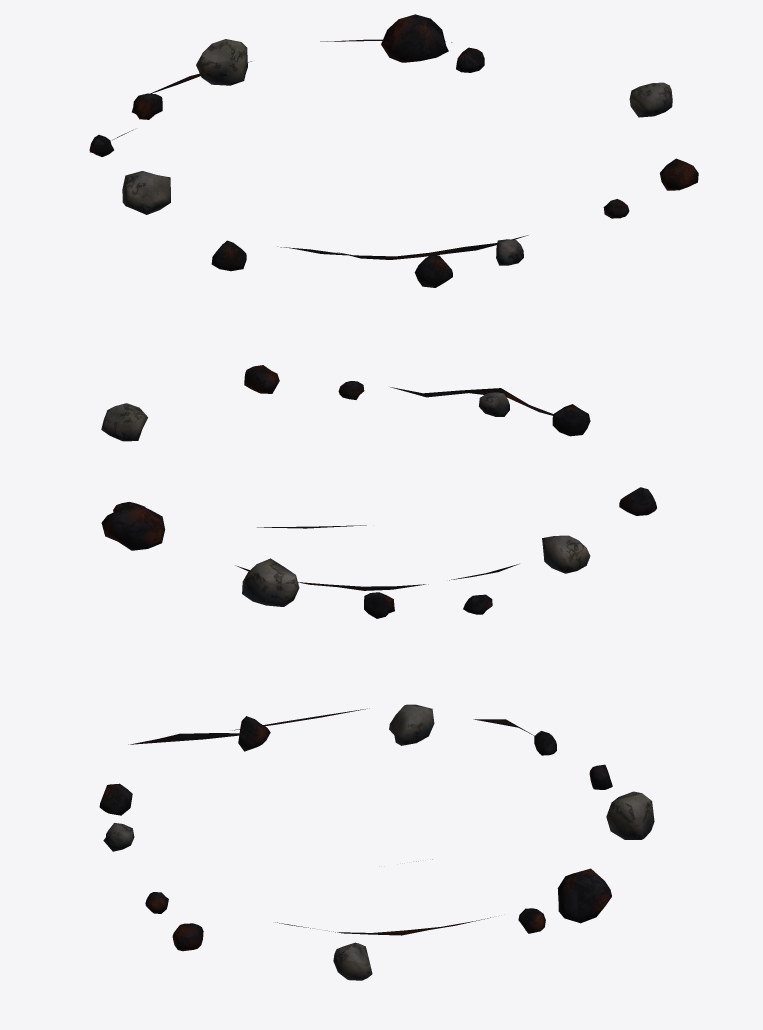
Rendered from crater_rim.glb.
The picture shows the model from 3 angles, top to bottom: view 1: azimuth 30°, elevation 25°; view 2: azimuth 150°, elevation 25°; view 3: azimuth 270°, elevation 25°; orthographic projection. The views are drawn at different scales.
Parts seen in each view (by area): view 1: crater_rim; view 2: crater_rim; view 3: crater_rim.
Boxes of the visible parts, bbox=[...] form: crater_rim: bbox=[89, 14, 698, 287]; crater_rim: bbox=[101, 365, 656, 618]; crater_rim: bbox=[99, 704, 654, 980].
Size of the model in its own units: 17.1 by 1.74 by 16.77.
Materials: 2 (2 with a texture image).
